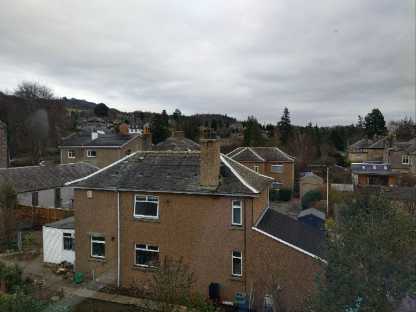tree: (317, 189, 416, 312), (360, 104, 402, 134), (275, 103, 302, 138), (237, 112, 266, 144), (143, 105, 177, 132)
